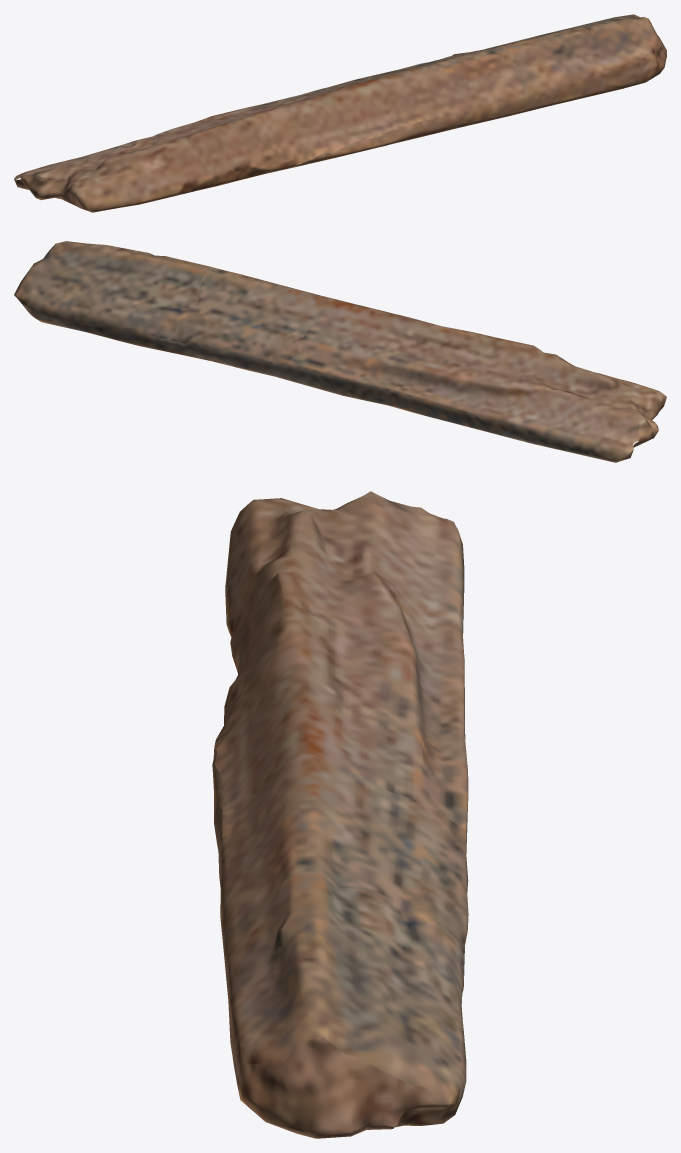
The model's file is SM_For_Sca_Stick_Set_02_E.gltf.
The picture shows the model from 3 angles, top to bottom: view 1: azimuth 30°, elevation 25°; view 2: azimuth 150°, elevation 25°; view 3: azimuth 270°, elevation 25°; orthographic projection. The views are drawn at different scales.
Parts seen in each view (by area): view 1: SM_For_Sca_Stick_Set_02_E; view 2: SM_For_Sca_Stick_Set_02_E; view 3: SM_For_Sca_Stick_Set_02_E.
Boxes of the visible parts, x1,y1,x2,y2 form: SM_For_Sca_Stick_Set_02_E: [14, 14, 666, 212]; SM_For_Sca_Stick_Set_02_E: [14, 241, 666, 462]; SM_For_Sca_Stick_Set_02_E: [212, 491, 468, 1138].
Size of the model in its own units: 0.0851 by 0.00793 by 0.0151.
1 material, 1 textured.
